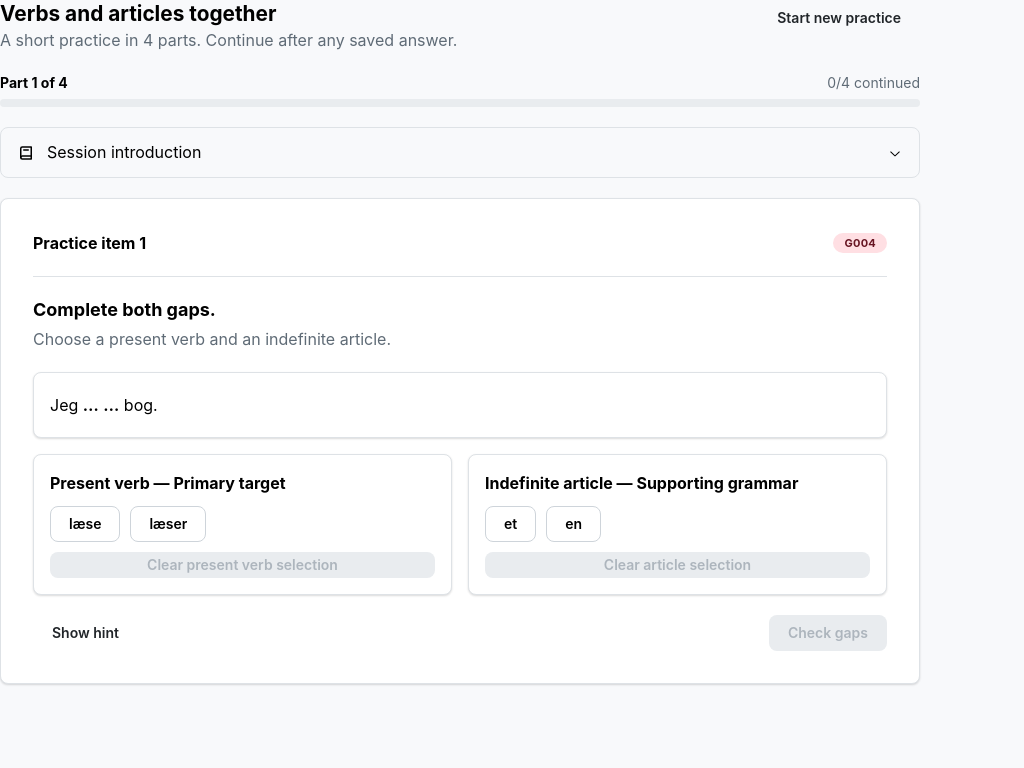
Test: restores authoritative state when support readback includes a new grade
Click the button "læser": (168, 524) [130, 506, 206, 542]
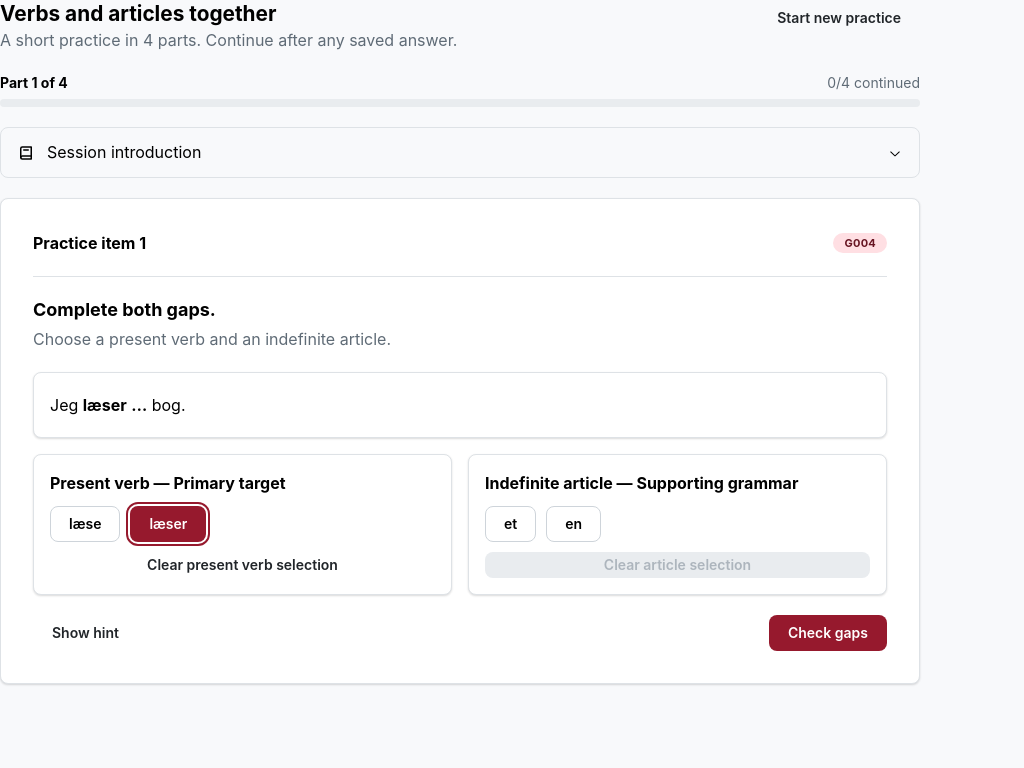
Click the button "Session introduction": (124, 152) [1, 128, 919, 177]
(page scrolled)
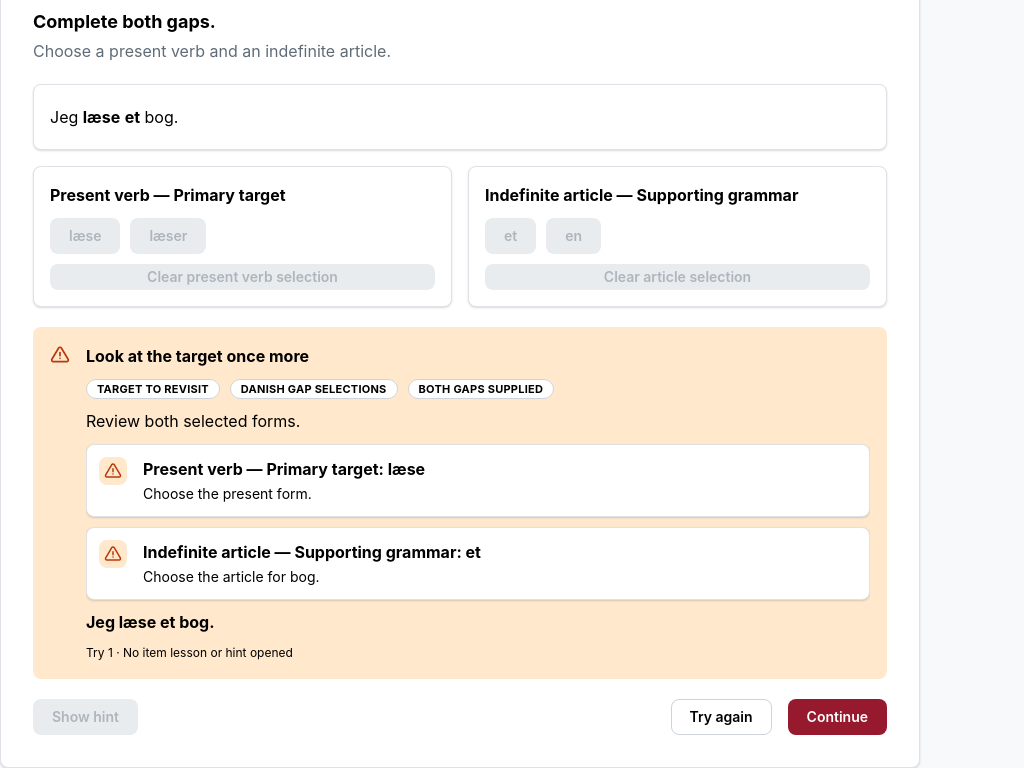
Expected: the button "Continue" is enabled, [788, 699, 887, 735]
Expected: the element named "Present verb feedback" is shown, [86, 444, 870, 517]
